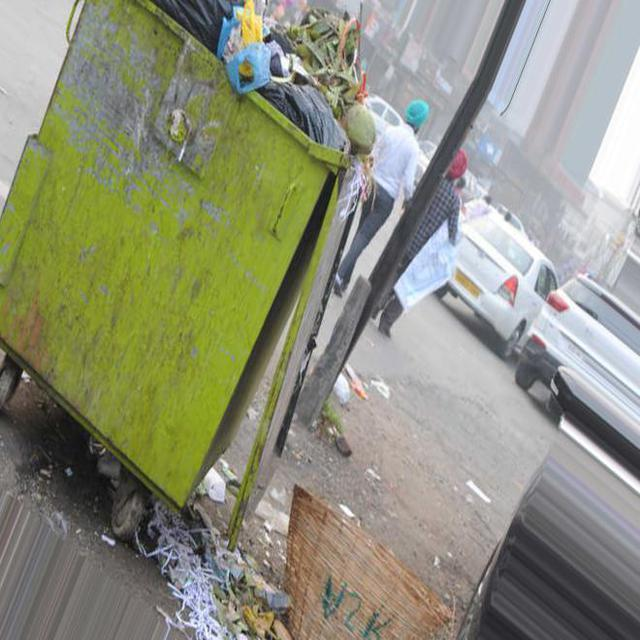garbage: (120, 448, 456, 636), (217, 0, 380, 150), (317, 364, 387, 414), (458, 477, 496, 512)
